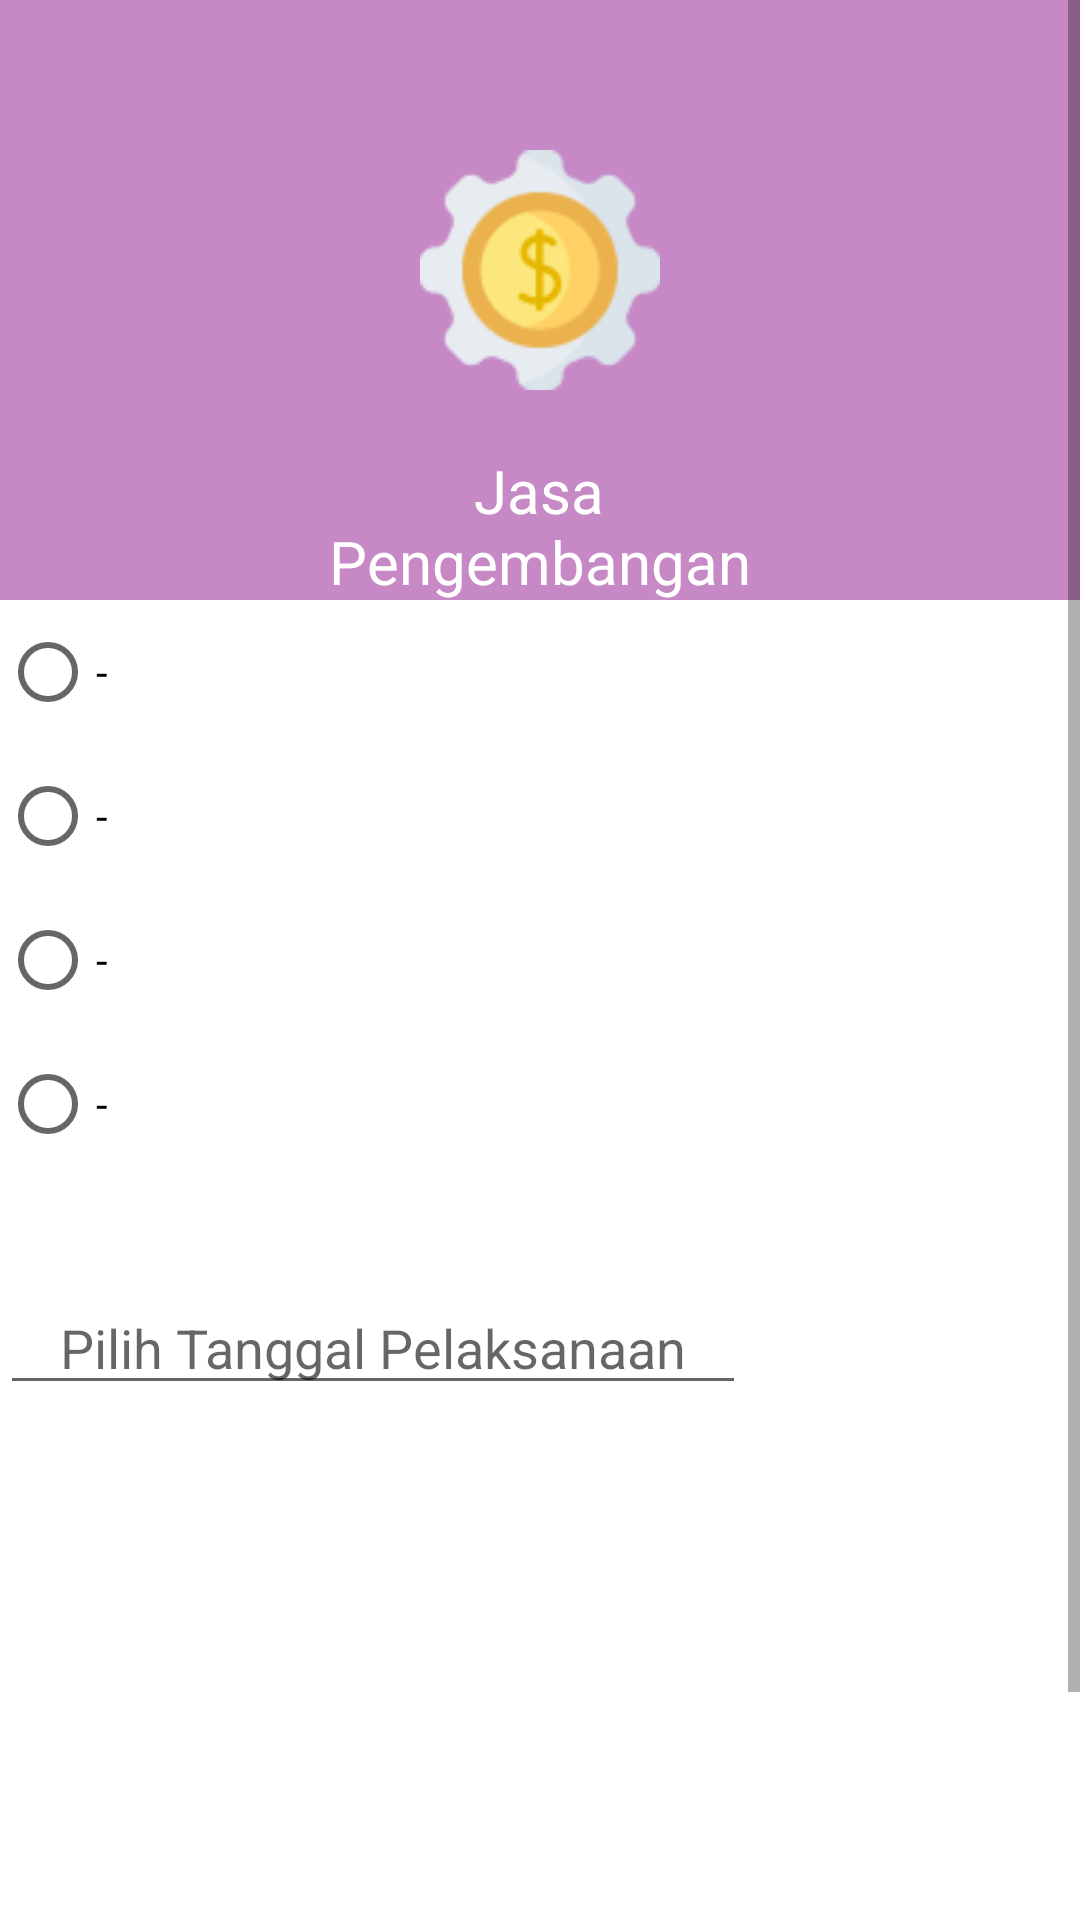

Screen size 1080×1920. Icon name, then its box in pixels as region(x1, y1, x2, y2):
perdagangan: region(420, 150, 660, 390)
